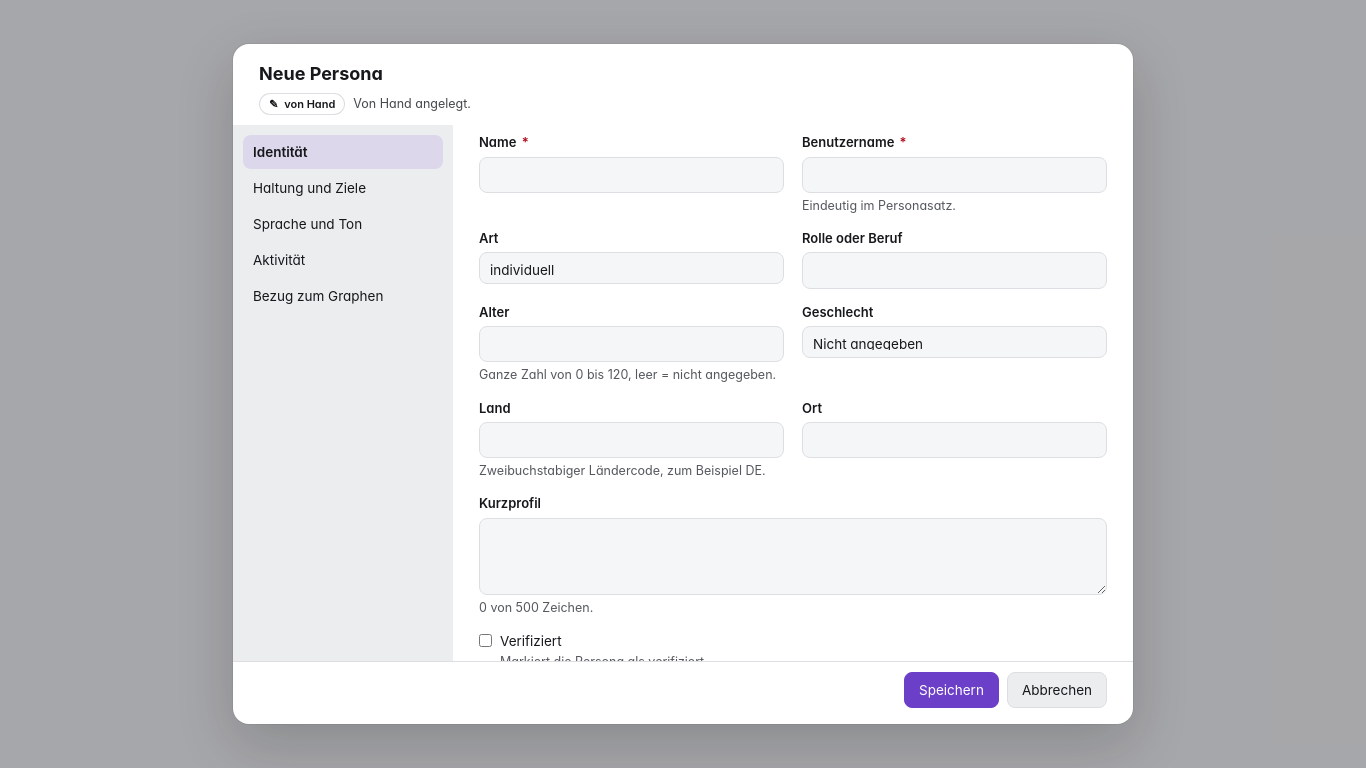
PersonaEditorDialog: Abschnitte › weist Haltung und Sprache ehrlich auf fehlende Vertragsfelder hin
Click the tab "Haltung und Ziele" at (343, 188), box 243,171 -> 443,205
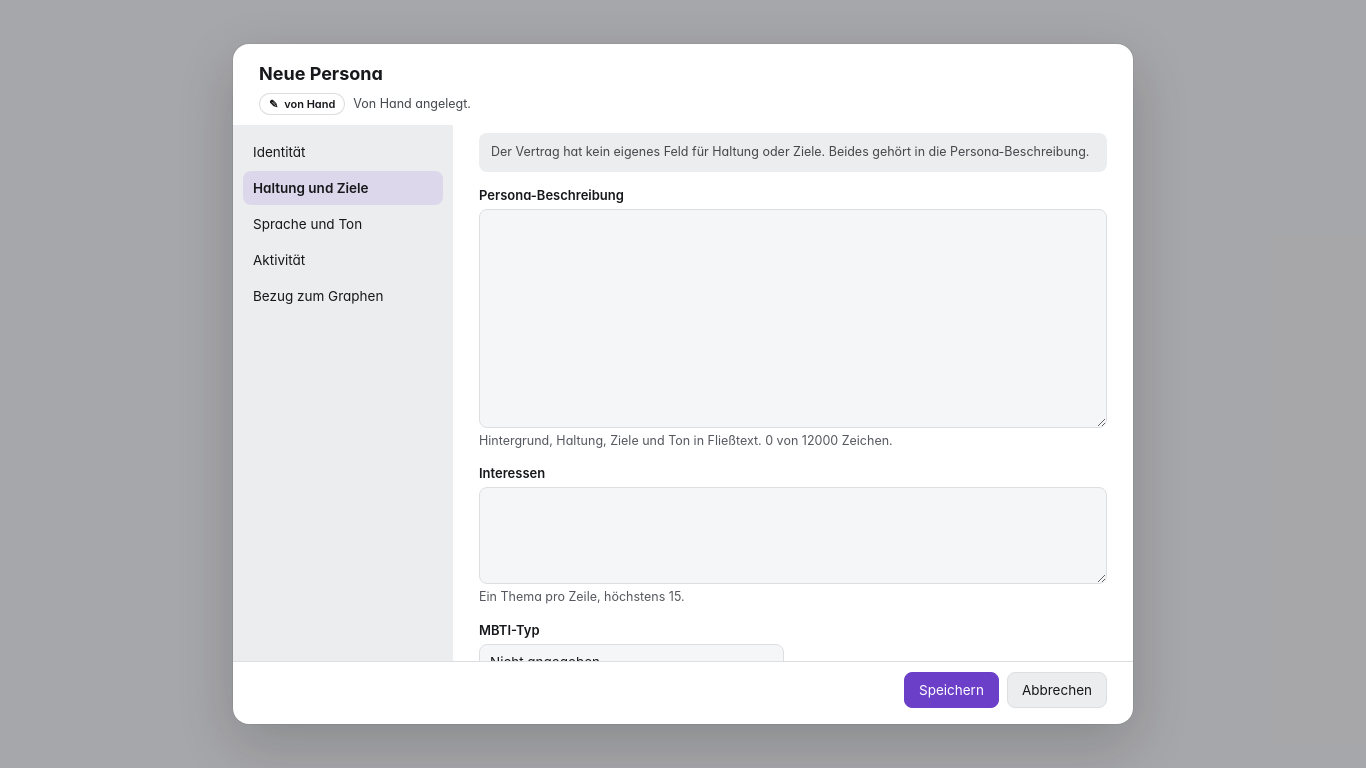
Expected: the text "kein eigenes Feld für Haltung oder Ziele" is shown, 491,144 -> 1089,159
Click the tab "Sprache und Ton" at (343, 224), box 243,207 -> 443,241
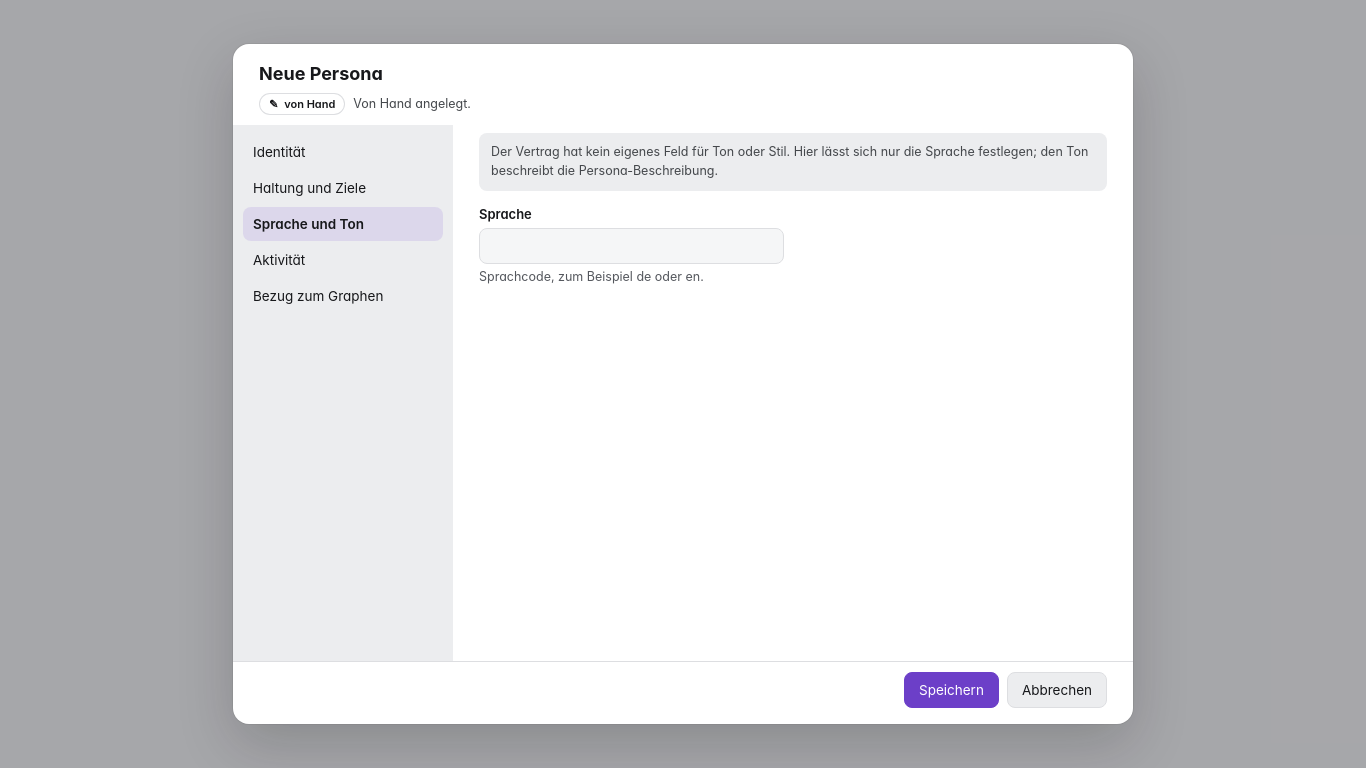
Expected: the text "kein eigenes Feld für Ton oder Stil" is shown, 491,144 -> 1088,178
